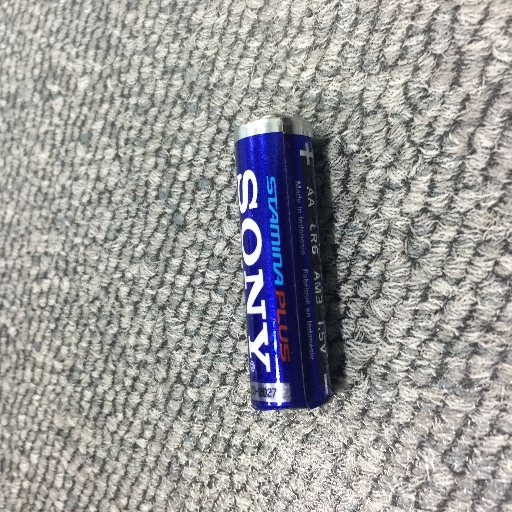Battery_0: (222, 107, 358, 418)
